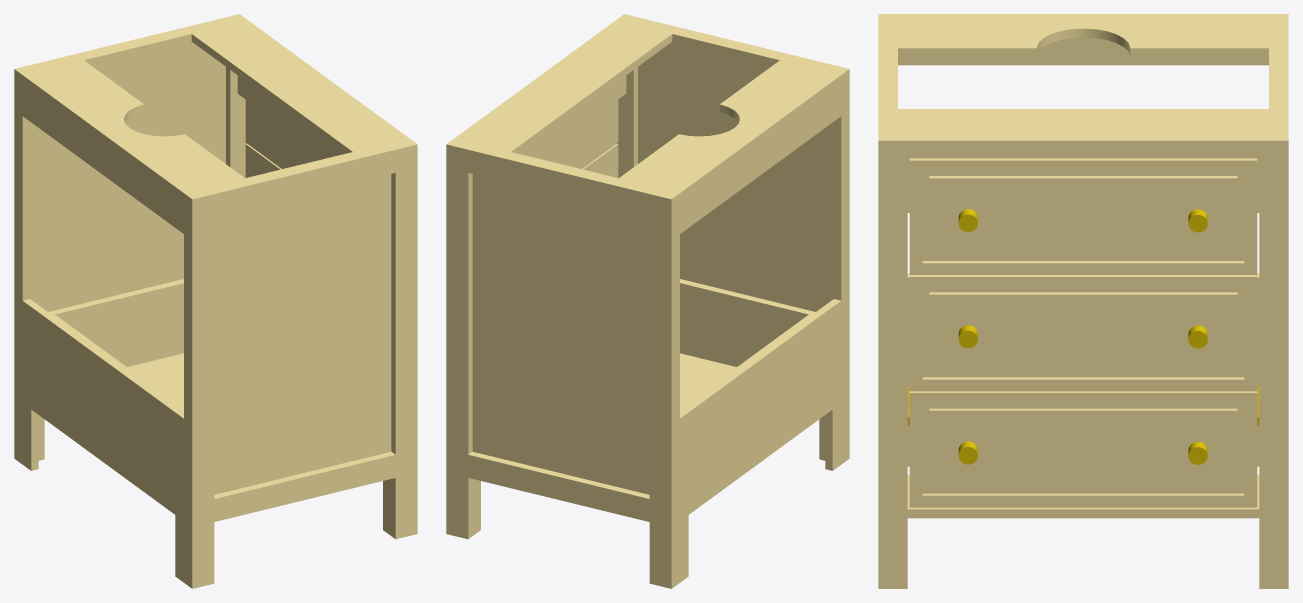
The model's file is bano-wichi.glb.
The picture shows the model from 3 angles, left to right: view 1: azimuth 30°, elevation 25°; view 2: azimuth 150°, elevation 25°; view 3: azimuth 270°, elevation 25°; orthographic projection. The views are drawn at different scales.
Bounding box in the file's own units: 0.4811 × 0.76 × 0.63.
3 materials, 1 textured.
